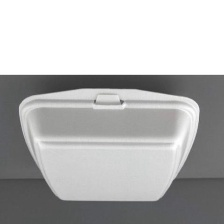foam_box: (11, 82, 206, 209)
